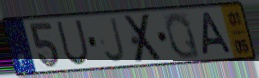5: (27, 21, 61, 70)
A: (201, 11, 234, 58)
J: (103, 16, 127, 65)
Q: (163, 11, 202, 61)
U: (54, 19, 91, 68)
X: (123, 12, 164, 65)
